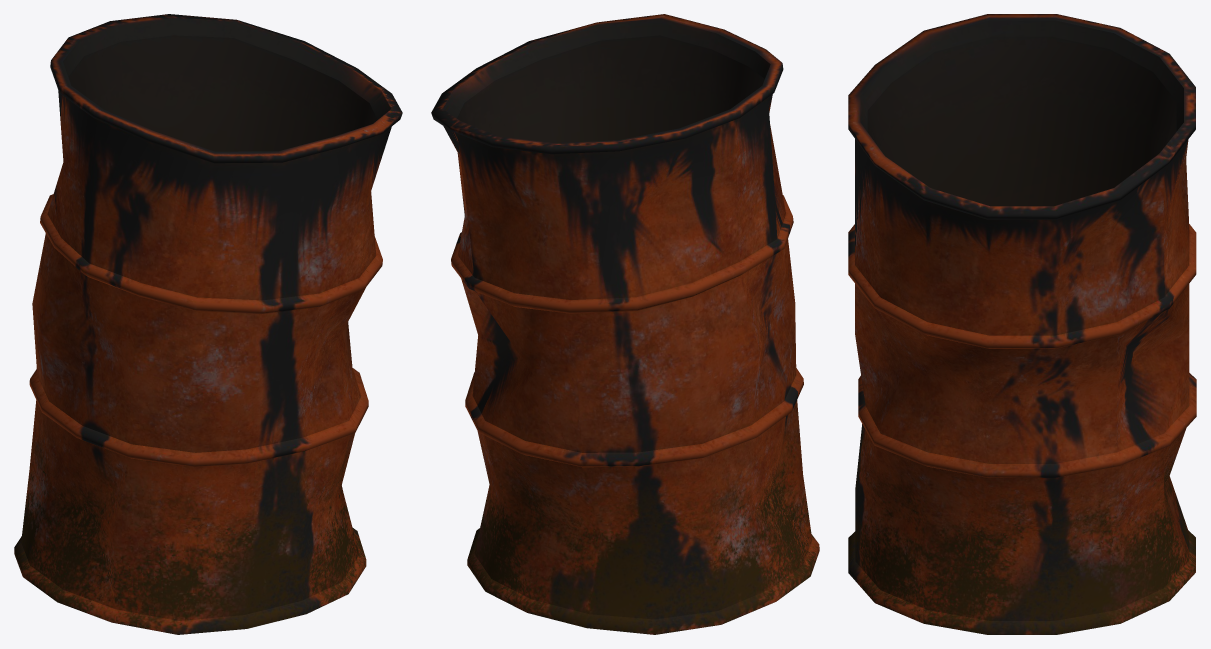
The picture shows the model from 3 angles, left to right: view 1: azimuth 30°, elevation 25°; view 2: azimuth 150°, elevation 25°; view 3: azimuth 270°, elevation 25°; orthographic projection.
Parts seen in each view (by area): view 1: Oil_Barell_GEO; view 2: Oil_Barell_GEO; view 3: Oil_Barell_GEO.
Boxes of the visible parts, x1,y1,x2,y2 form: Oil_Barell_GEO: (14,14,402,634); Oil_Barell_GEO: (431,14,819,634); Oil_Barell_GEO: (848,14,1196,634).
Size of the model in its own units: 0.5726 by 0.8007 by 0.5138.
1 material, 1 textured.
